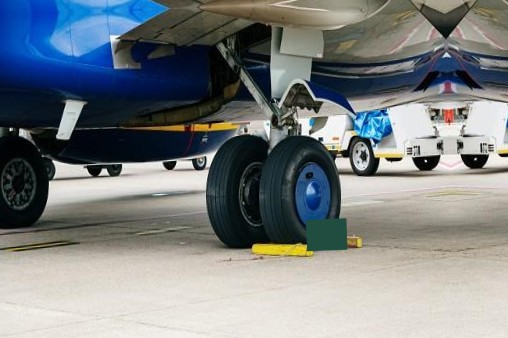chock: (248, 241, 314, 259), (306, 233, 364, 250)
wheel: (258, 132, 345, 250), (204, 133, 277, 247), (0, 135, 51, 227), (349, 136, 381, 176), (461, 152, 489, 168), (413, 154, 442, 169), (43, 158, 56, 181), (367, 156, 381, 174), (193, 156, 208, 169), (107, 164, 122, 176), (87, 165, 103, 175), (163, 160, 177, 169), (386, 155, 403, 162), (340, 148, 350, 157), (498, 151, 508, 157)
